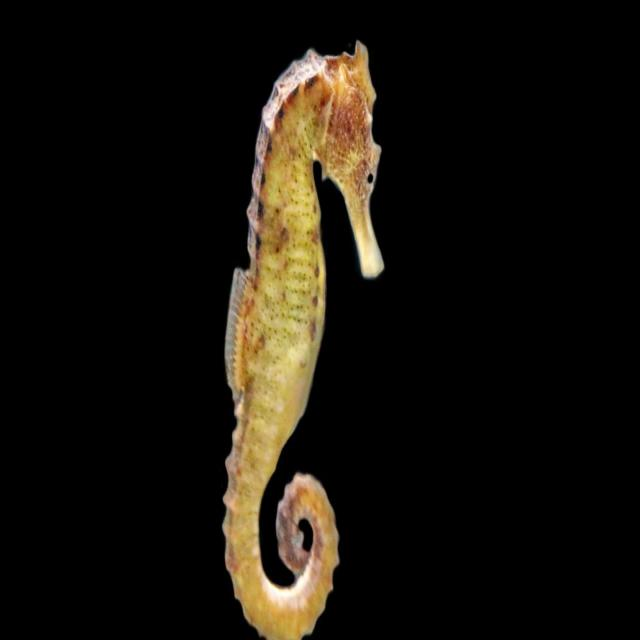seahorse: (223, 42, 384, 639)
